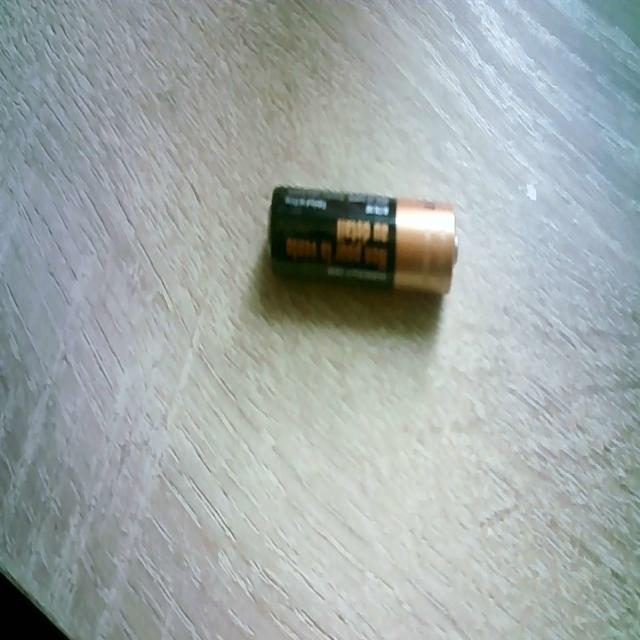AA: (267, 182, 459, 297)
